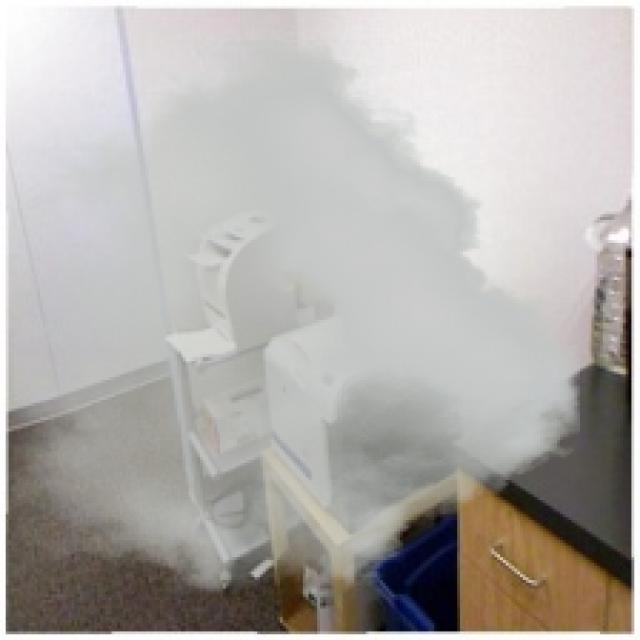smoke: (11, 40, 580, 594)
